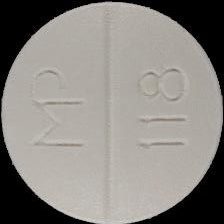66116-357: (0, 0, 224, 224)
